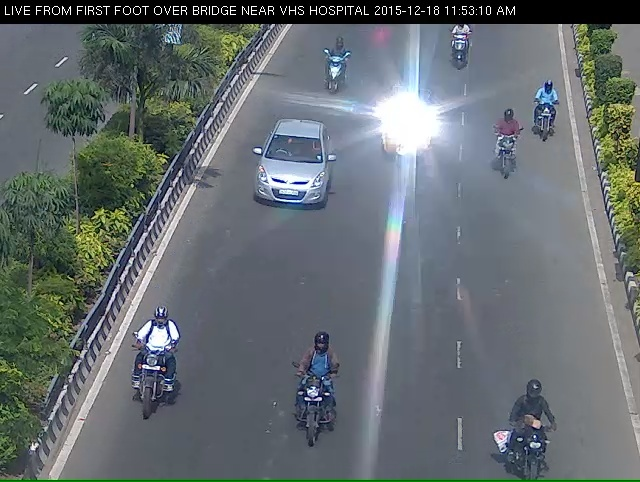Auto: (378, 109, 437, 182)
Car: (247, 131, 332, 236)
Person: (106, 334, 177, 459), (266, 364, 340, 476), (504, 407, 575, 479), (484, 114, 524, 200), (310, 46, 347, 109), (530, 85, 562, 154), (449, 26, 470, 84)
